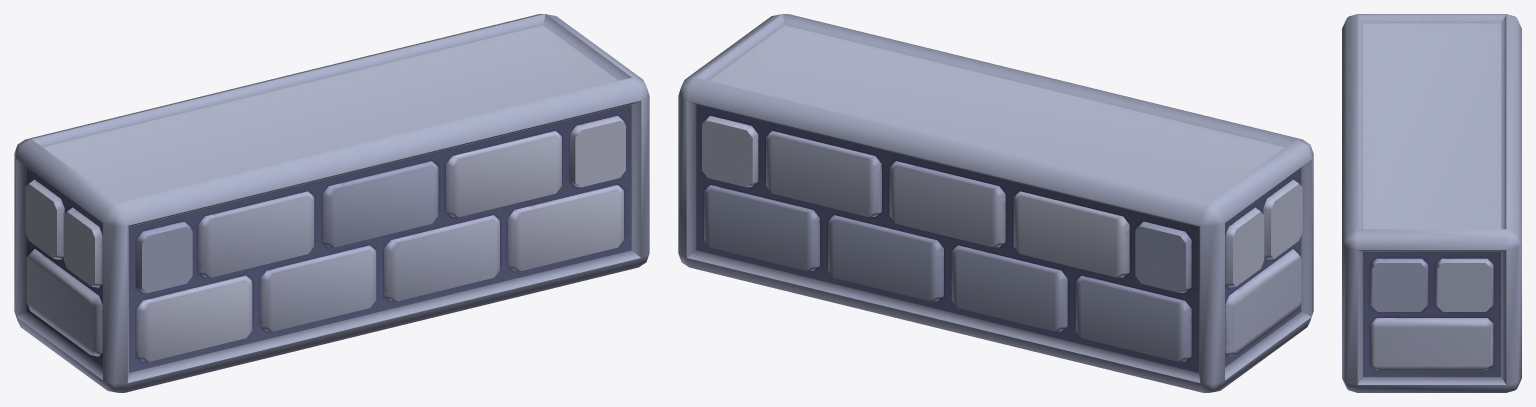
Rendered from tas3.glb.
3 renders of one model, left to right at view 1: azimuth 30°, elevation 25°; view 2: azimuth 150°, elevation 25°; view 3: azimuth 270°, elevation 25°, orthographic. The views are drawn at different scales.
Visible parts, largest first — view 1: tas3; view 2: tas3; view 3: tas3.
Part boxes in pixels (x1,y1,x2,y2): tas3: (14, 14, 649, 392); tas3: (678, 14, 1313, 392); tas3: (1342, 14, 1521, 392).
Size of the model in its own units: 4.6 by 1.53 by 1.53.
Materials: 1 (1 with a texture image).
